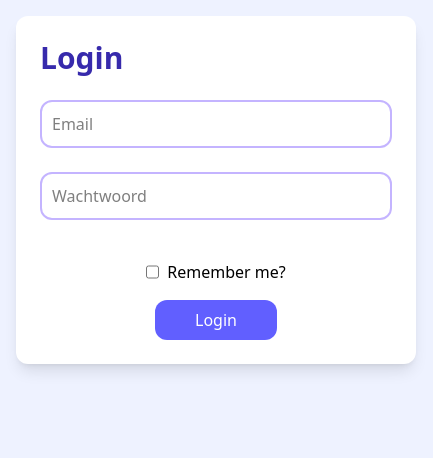
LoginPage › shows an error message when login fails unknown status
Type "user@plm.com" into the field with placeholder "Email". click: (216, 124)
box: top-left (40, 100), bottom-right (392, 148)
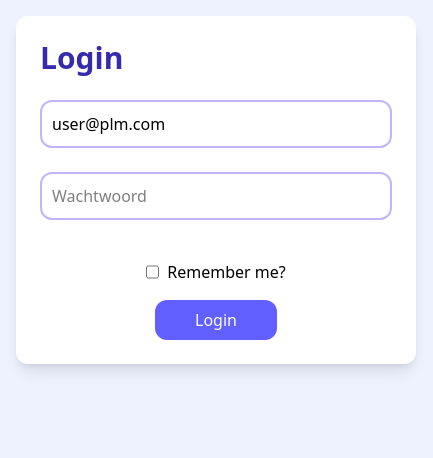
Type "plm-password" into the password field with placeholder "Wachtwoord". click: (216, 196)
box: top-left (40, 172), bottom-right (392, 220)
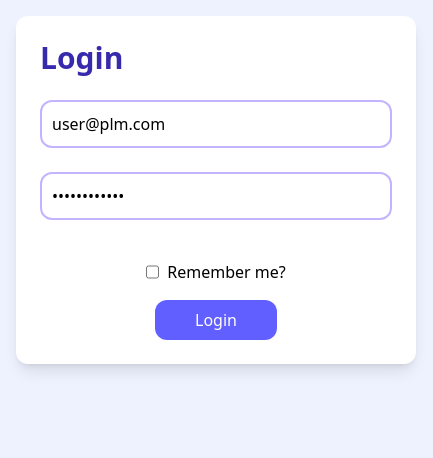
Click the button. click: (216, 320)
box: top-left (155, 300), bottom-right (277, 340)
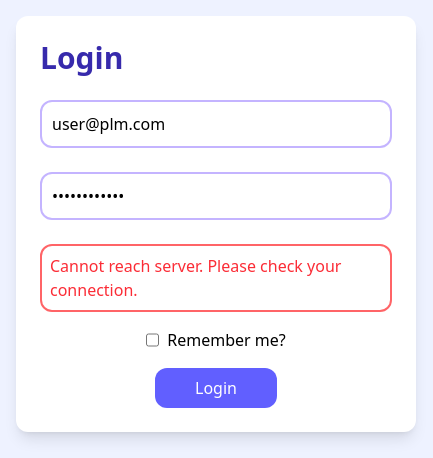
Expected: the text "Cannot reach server. Please check your connection." is shown, top-left (50, 254), bottom-right (382, 302)
